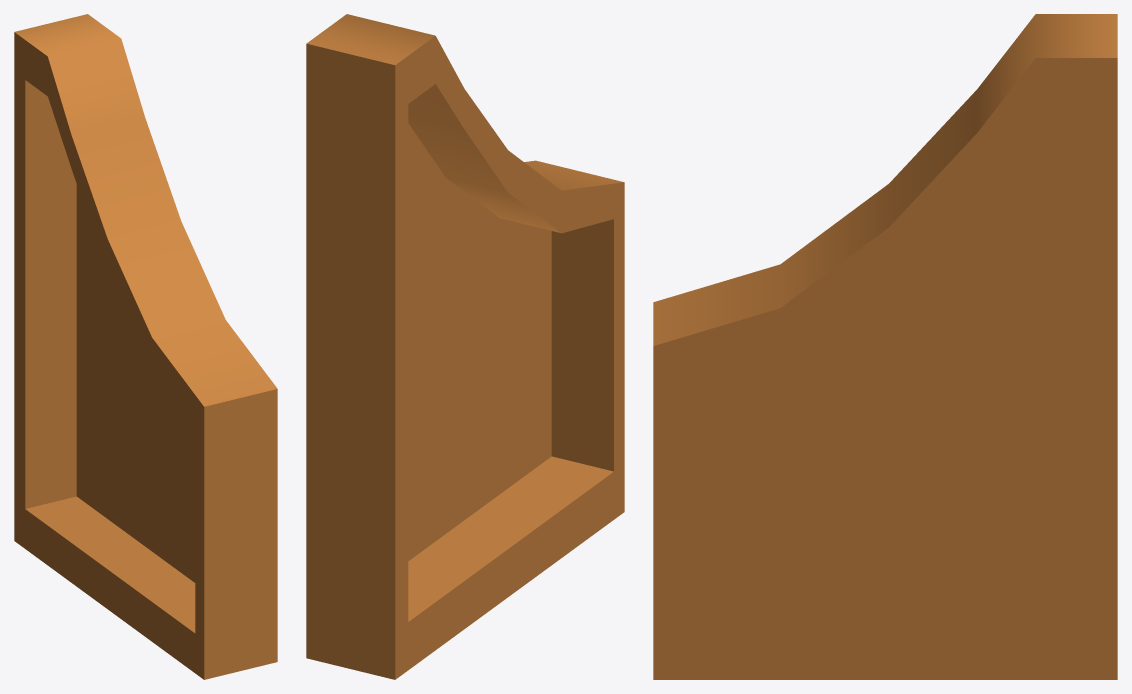
Rendered from Left wing medium.fbx.
The picture shows the model from 3 angles, left to right: view 1: azimuth 30°, elevation 25°; view 2: azimuth 150°, elevation 25°; view 3: azimuth 270°, elevation 25°; orthographic projection. The views are drawn at different scales.
Parts seen in each view (by area): view 1: polySurface112; view 2: polySurface112; view 3: polySurface112.
Boxes of the visible parts, x1,y1,x2,y2 form: polySurface112: (14, 14, 277, 679); polySurface112: (306, 14, 624, 679); polySurface112: (653, 14, 1117, 679).
Size of the model in its own units: 0.675 by 4.46 by 3.02.
1 material, 1 textured.
